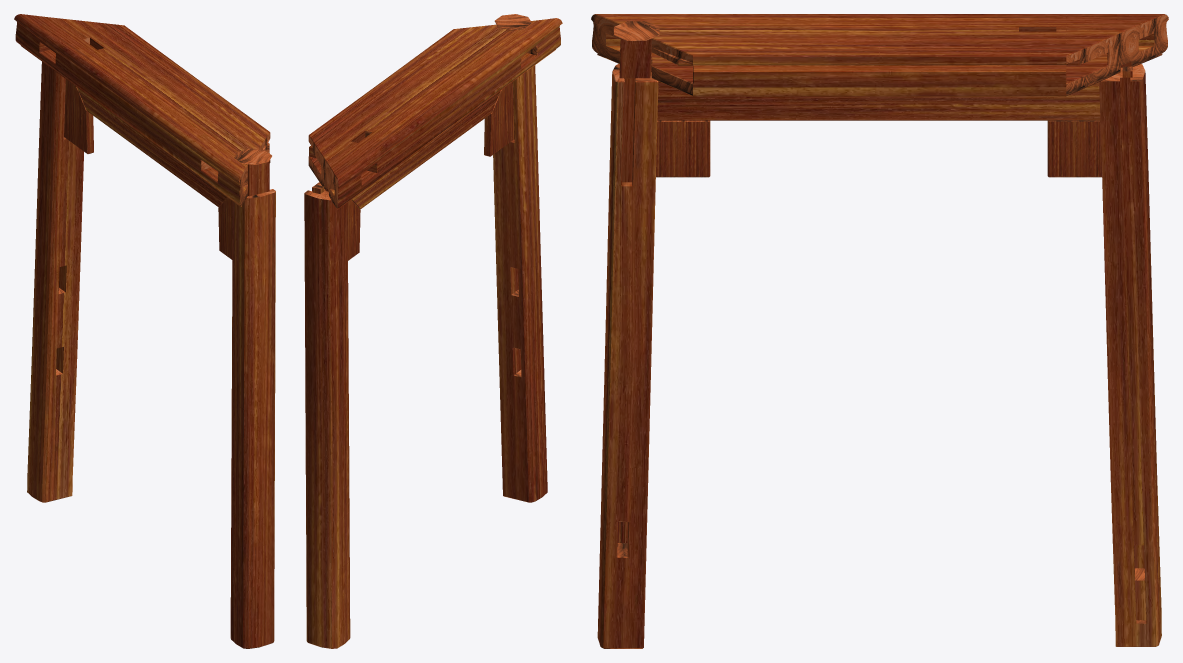
File: GMY_J_H_motou_02.FBX
The picture shows the model from 3 angles, left to right: view 1: azimuth 30°, elevation 25°; view 2: azimuth 150°, elevation 25°; view 3: azimuth 270°, elevation 25°; orthographic projection. The views are drawn at different scales.
Visible parts, largest first — view 1: GMY_J_motou_02; view 2: GMY_J_motou_02; view 3: GMY_J_motou_02.
Part boxes in pixels (x1,y1,x2,y2): GMY_J_motou_02: (14,14,275,648); GMY_J_motou_02: (304,14,562,648); GMY_J_motou_02: (591,14,1168,648).
Bounding box in the file's own units: 8.14 × 52.54 × 44.86.
